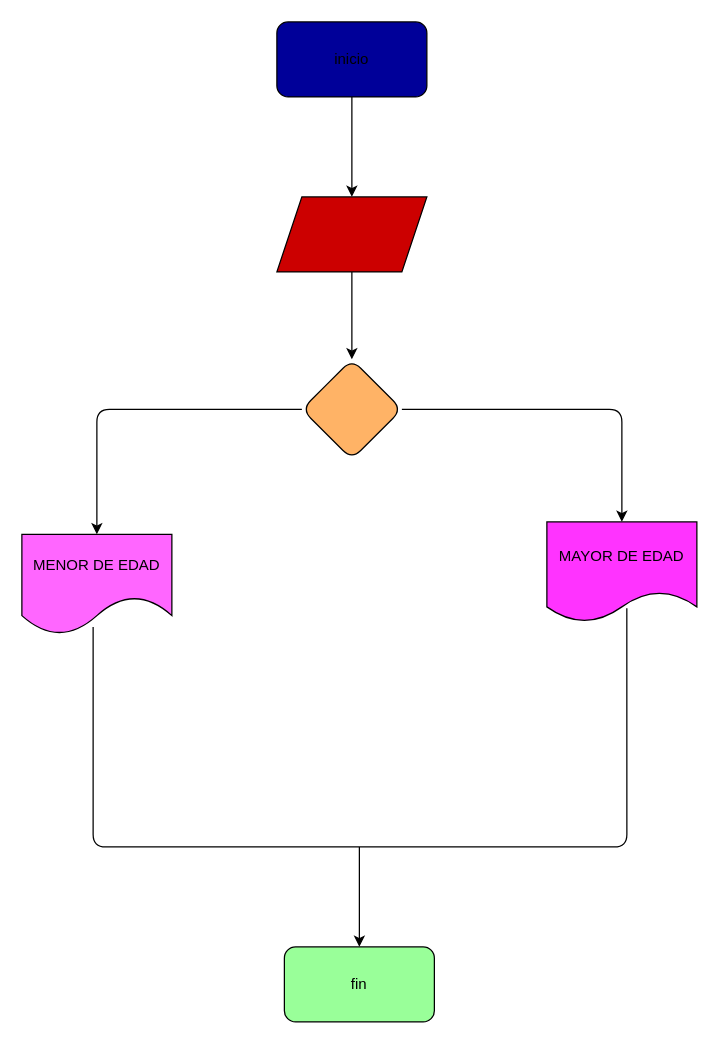
This 719x1044 diagram has some shape labels left out. Each missing label, with the centre of its shape:
"edad" goes at point 351,234.
"edad>=18" goes at point 351,408.
